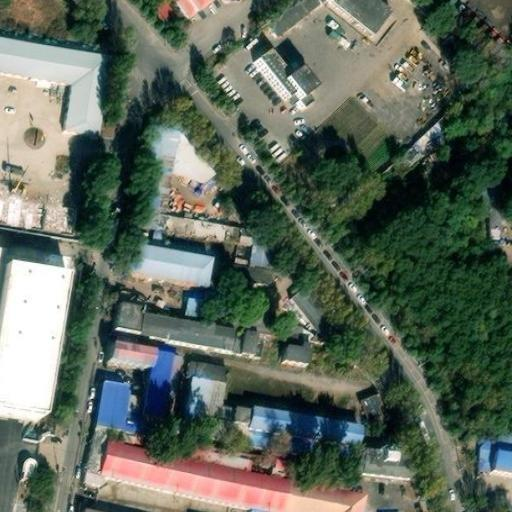building: (96, 445, 365, 512), (0, 261, 73, 424), (246, 416, 362, 462), (112, 312, 230, 357), (266, 0, 394, 40), (129, 127, 175, 237), (0, 185, 79, 236), (127, 252, 208, 295), (253, 55, 313, 113), (285, 278, 340, 338), (227, 233, 276, 284), (401, 115, 452, 164), (158, 215, 232, 246), (138, 360, 168, 426), (265, 33, 310, 77), (84, 428, 120, 476), (191, 366, 226, 414), (91, 388, 128, 433), (199, 412, 250, 444), (481, 176, 505, 237), (361, 452, 403, 486), (478, 432, 512, 471), (183, 381, 207, 435), (106, 354, 148, 382), (171, 0, 219, 24), (80, 498, 146, 512), (199, 297, 238, 320), (357, 387, 385, 416), (14, 450, 39, 478), (286, 344, 314, 366), (120, 423, 154, 438), (369, 500, 403, 512), (180, 300, 201, 317), (240, 338, 253, 358)
